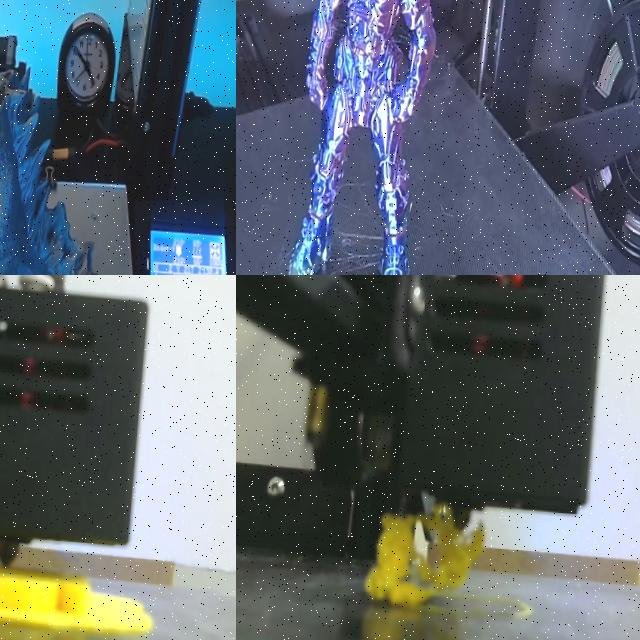spaghetti: (365, 503, 483, 606)
